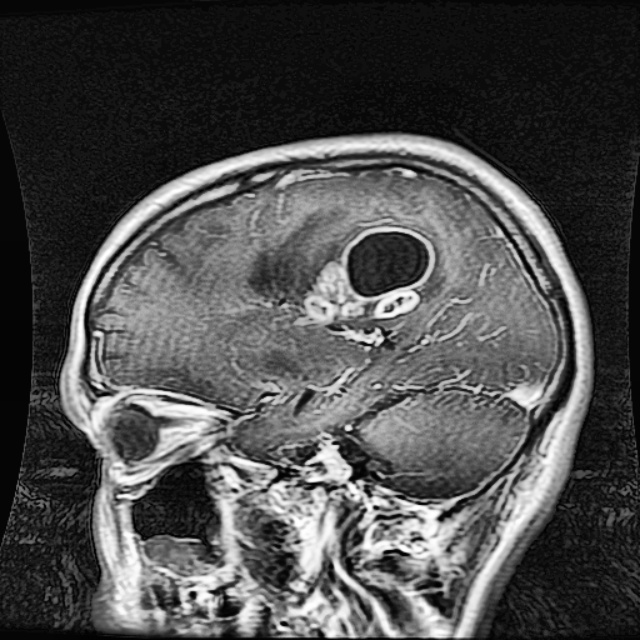Meningioma: (303, 220, 435, 348)
